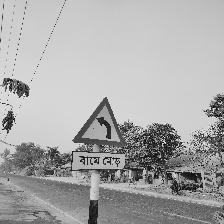Left-Turn: (70, 98, 128, 171)
